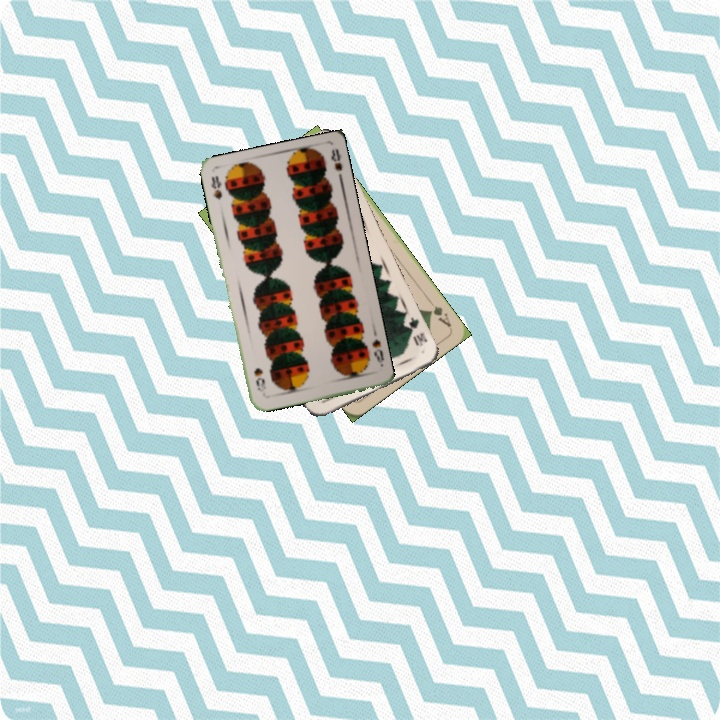G10: (402, 312, 430, 349)
GA: (424, 295, 454, 330)
S8: (368, 335, 386, 369), (207, 171, 225, 202)
